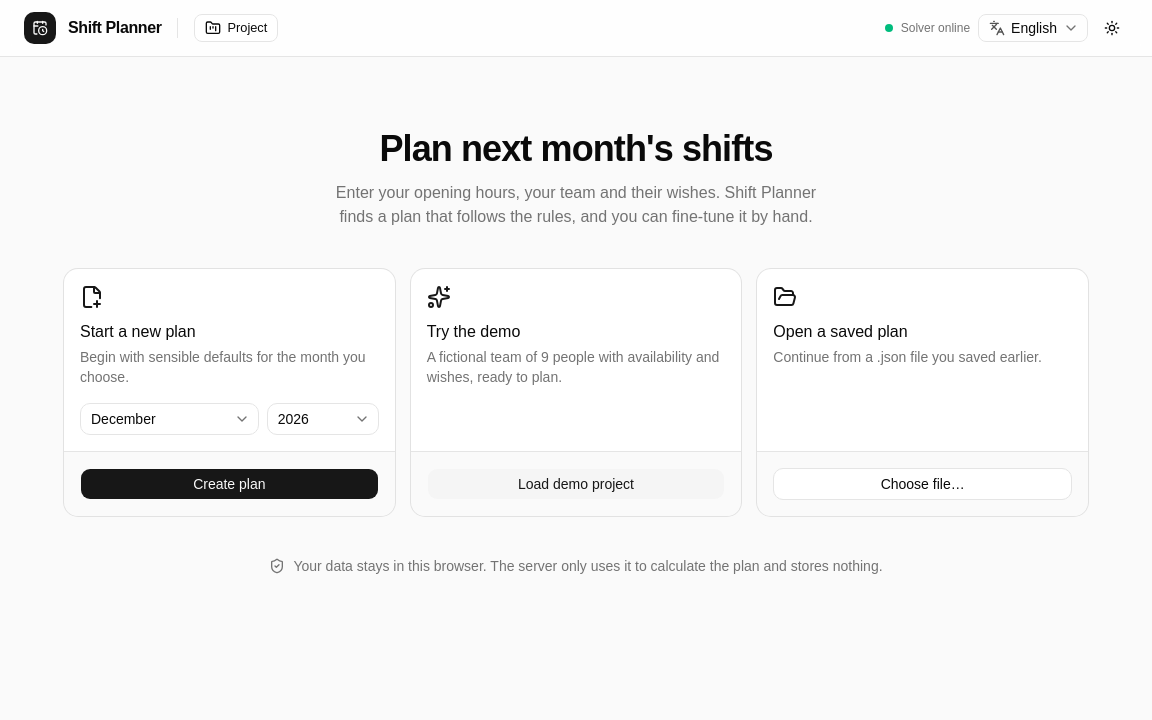
App › loads the demo project from the API
Click the button "Load demo project" at (576, 484), box left=427, top=468, right=725, bottom=500
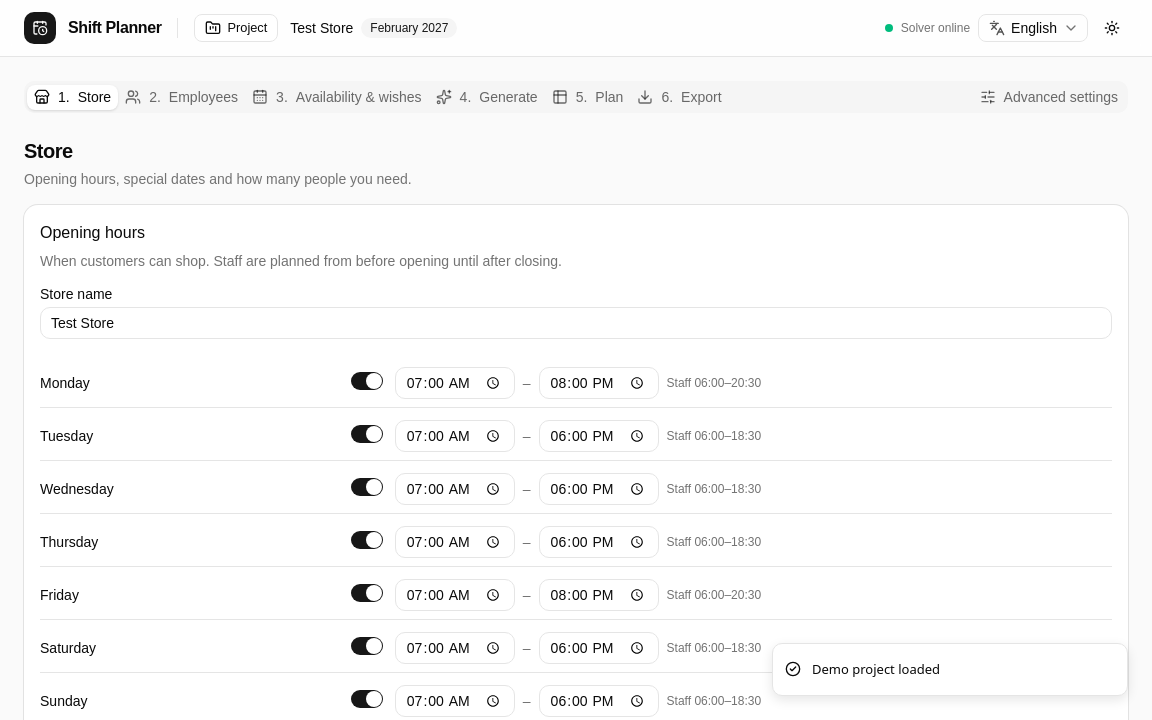
Expected: the tab "2. Employees" is shown, left=118, top=84, right=245, bottom=110
